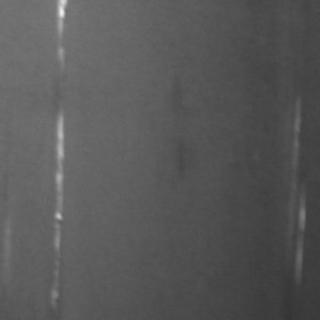inclusion: (166, 132, 190, 184)
scratches: (42, 107, 66, 297), (282, 96, 306, 286), (48, 0, 68, 66)
